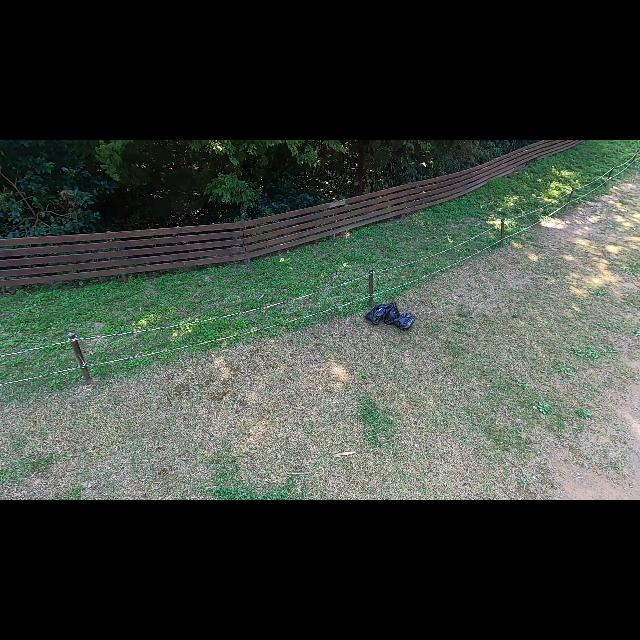trash: (394, 312, 416, 332), (366, 304, 386, 326), (384, 302, 401, 324)
